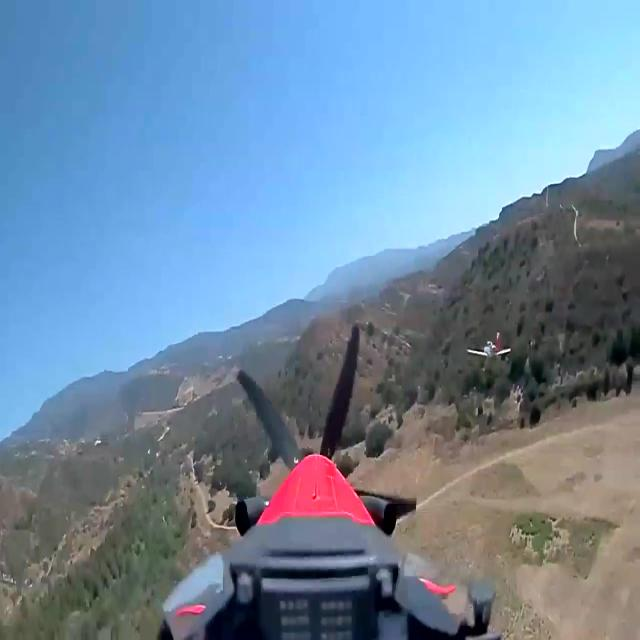iha: (466, 331, 511, 372)
